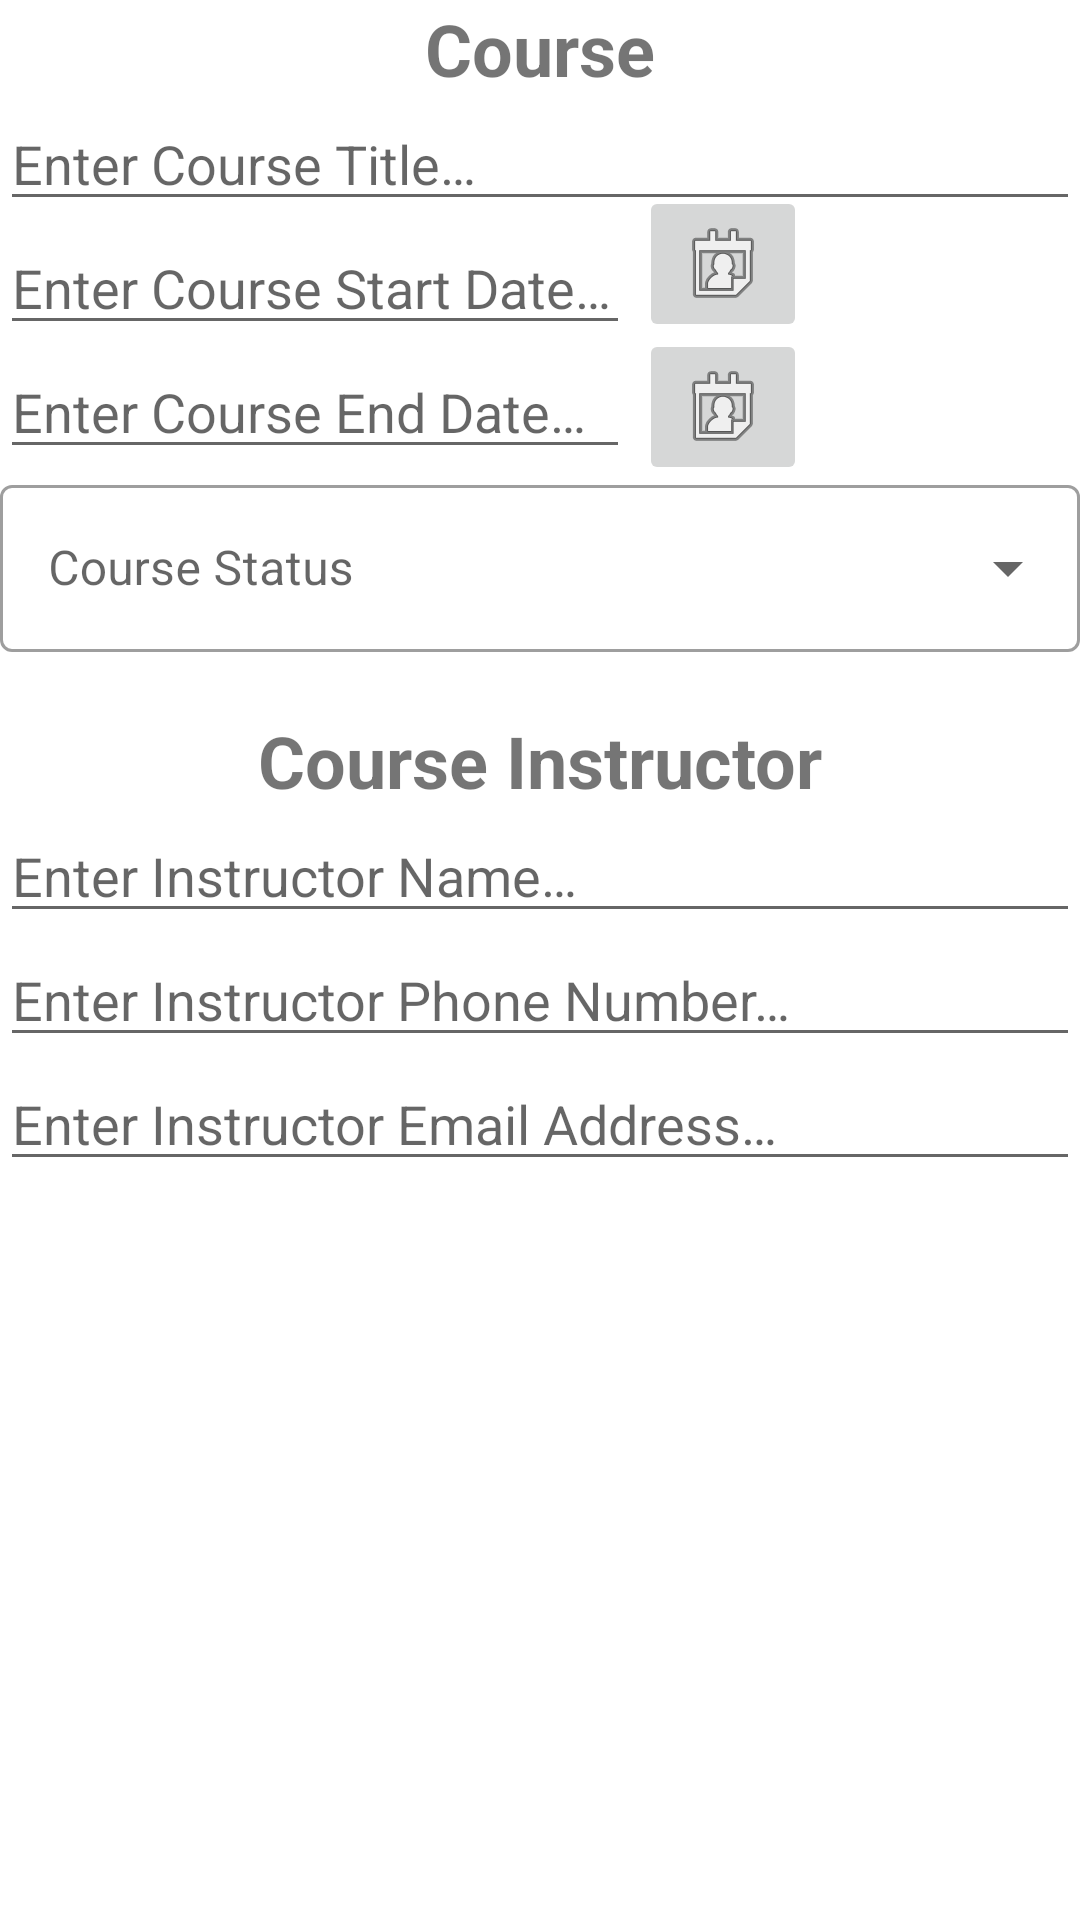

Named icons in this screenshot (1080w x 1920h) and their bounding boxes, region(x1, y1, x2, y2):
End Date Picker: region(651, 347, 795, 467)
Start Date Picker: region(651, 204, 795, 324)
